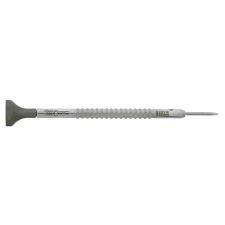Screwdriver: (4, 85, 225, 134)
